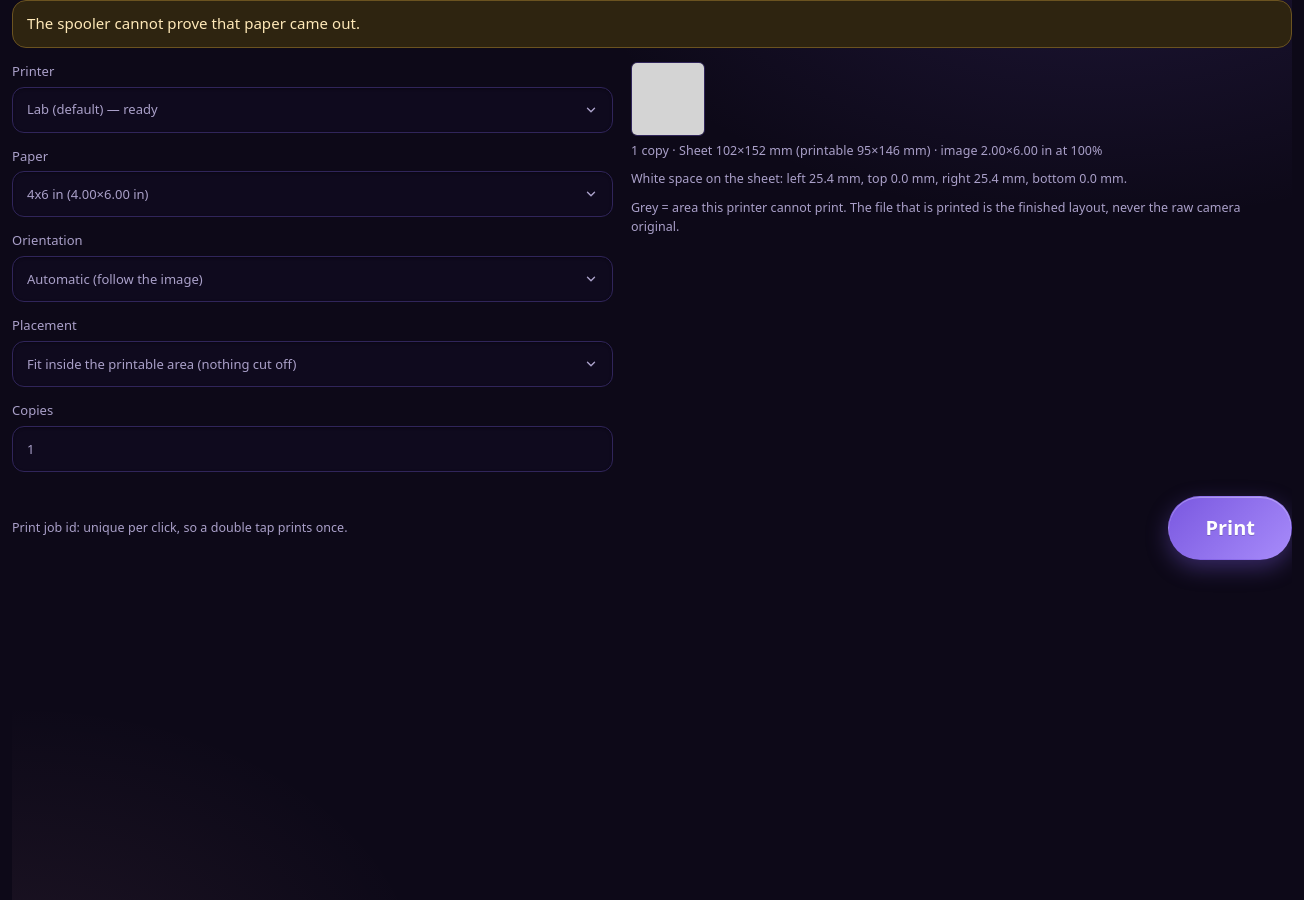
Test: PrintPanel › blocks printing to an offline printer and says why
The width and height of the screenshot is (1304, 900).
Select "Old — offline" in the dropdown labelled "Printer": [312, 110] box [12,87,613,133]
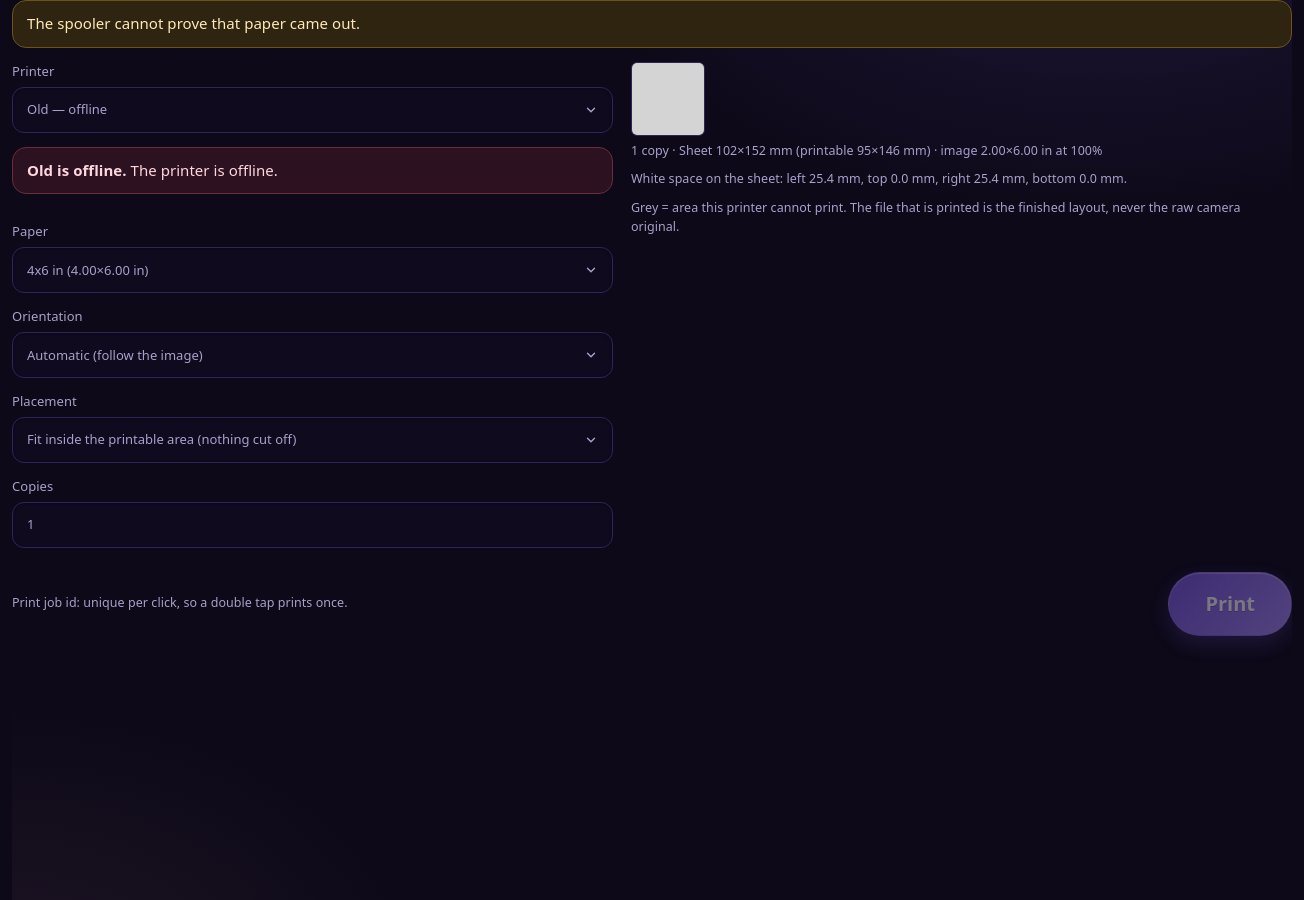
Check: the text "Old is offline." is shown, box [27,160,127,180]
Check: the button "Print" is disabled, box [1168,572,1292,636]
